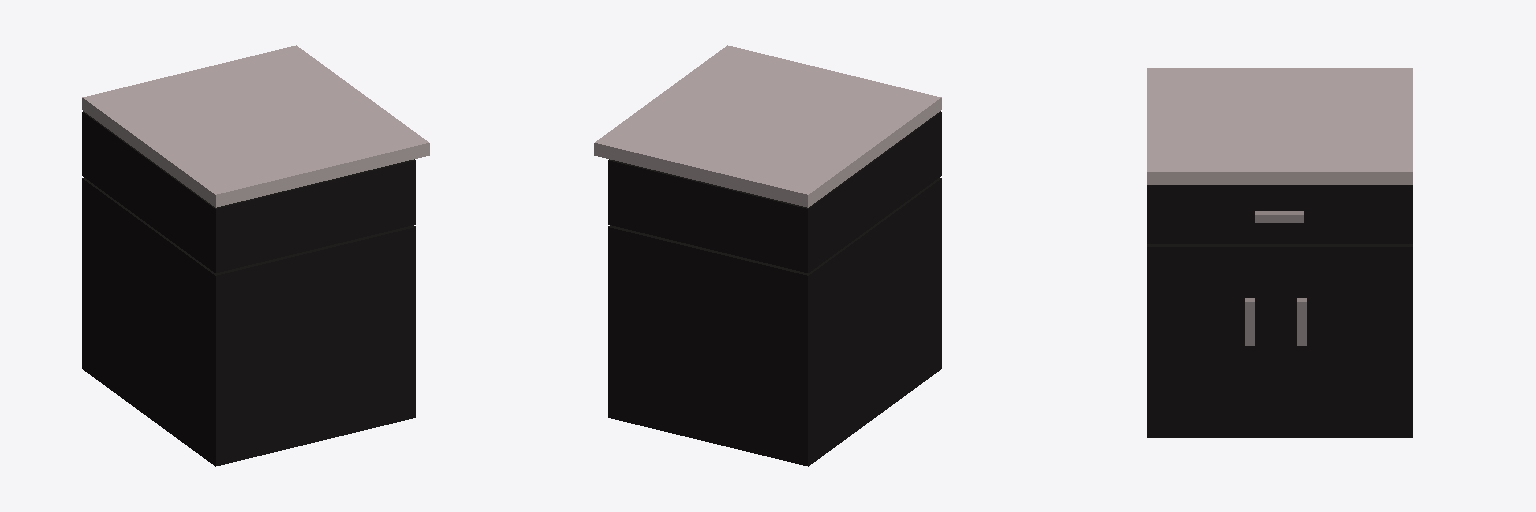
The model's file is Counter.obj.
3 views of the same model, side by side, from view 1: azimuth 30°, elevation 25°; view 2: azimuth 150°, elevation 25°; view 3: azimuth 270°, elevation 25° (orthographic).
Parts seen in each view (by area): view 1: Counter; view 2: Counter; view 3: Counter.
Part boxes in pixels (x1,y1,x2,y2): Counter: (82,45,429,466); Counter: (594,45,941,466); Counter: (1147,68,1412,437).
Size of the model in its own units: 1.77 by 2.15 by 1.91.